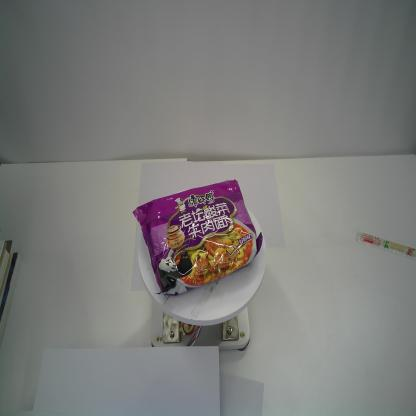Instant Noodles: (132, 179, 263, 295)
